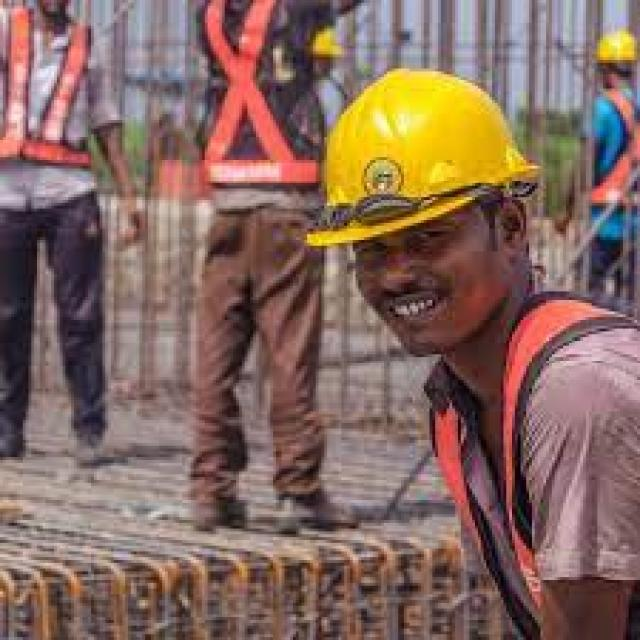Reflective-Jacket: (398, 286, 640, 637), (169, 2, 349, 230), (6, 2, 126, 216), (580, 85, 640, 208)
Safety-Helmet: (299, 63, 546, 254), (589, 23, 640, 77)
